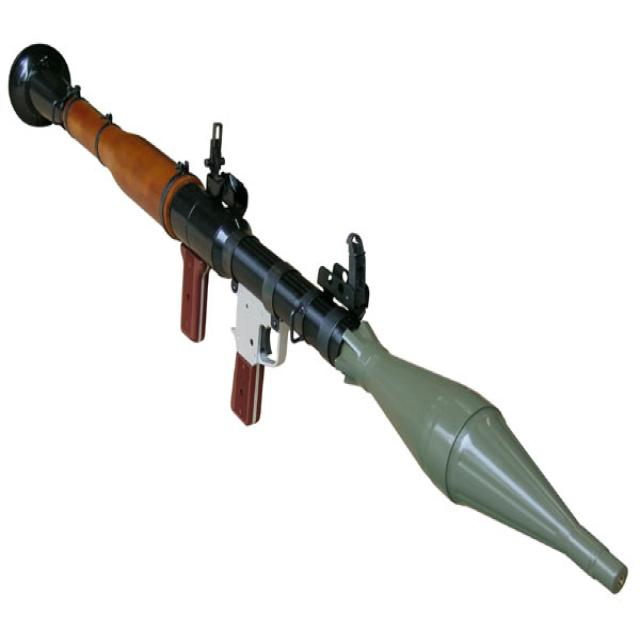bazooka: (3, 17, 640, 608)
